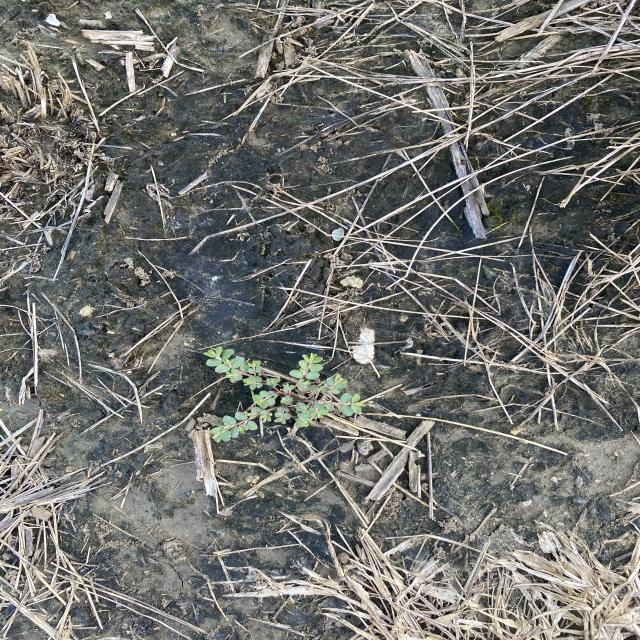SpottedSpurge: (202, 345, 368, 443)
